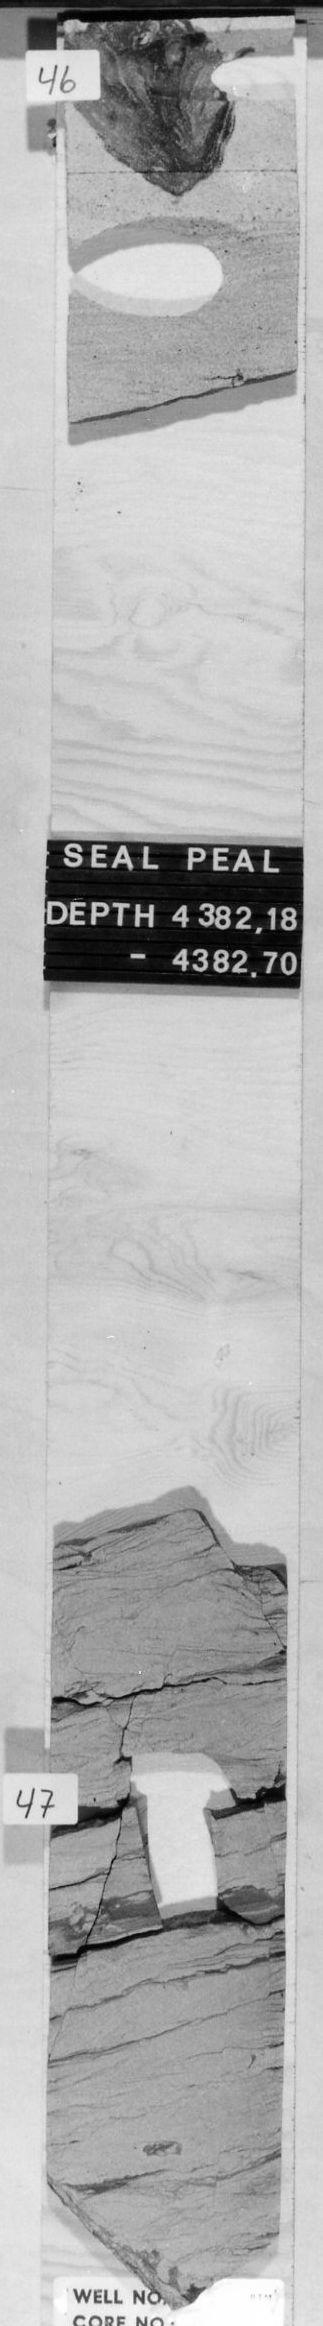hplug: (104, 27, 296, 113)
scal: (70, 220, 261, 323)
vplug: (132, 1802, 231, 1933)
